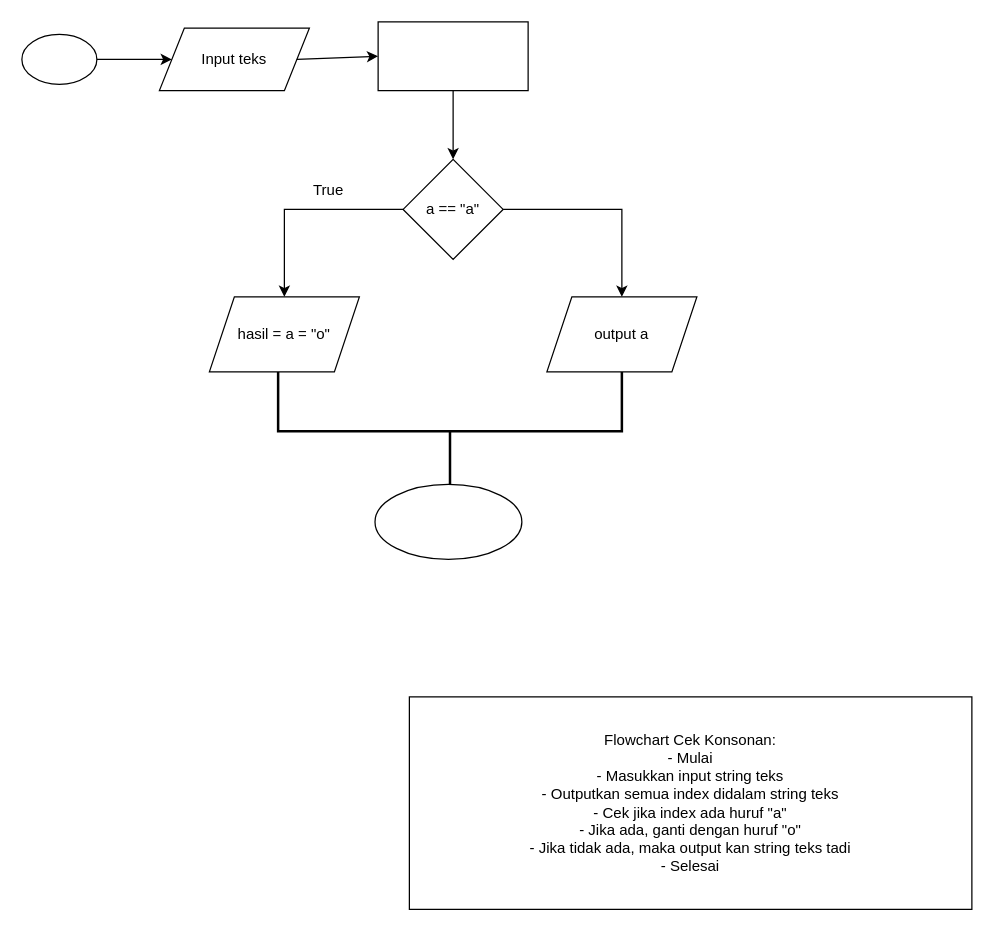
Image size: 994x931. Some labels were removed from this diagram. The shapes that lost their labels are listed below. From the top down, each one's centre as x and y in pixels, then its label:
At point 59,58: "Mulai".
At point 452,56: "a = teks[i]".
At point 448,521: "Selesai".
